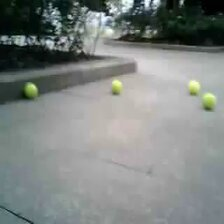tennis: (200, 93, 216, 109), (23, 83, 38, 97), (188, 80, 200, 96), (110, 80, 121, 94)
